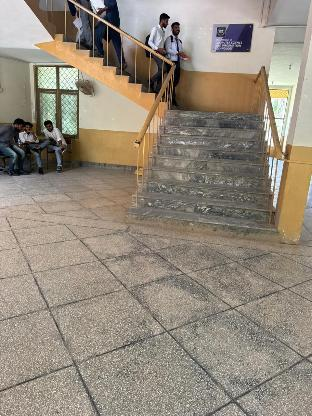person: (144, 10, 171, 93), (166, 21, 189, 106), (1, 116, 27, 178), (42, 118, 71, 173), (21, 116, 47, 176)
stair: (153, 100, 275, 240)
